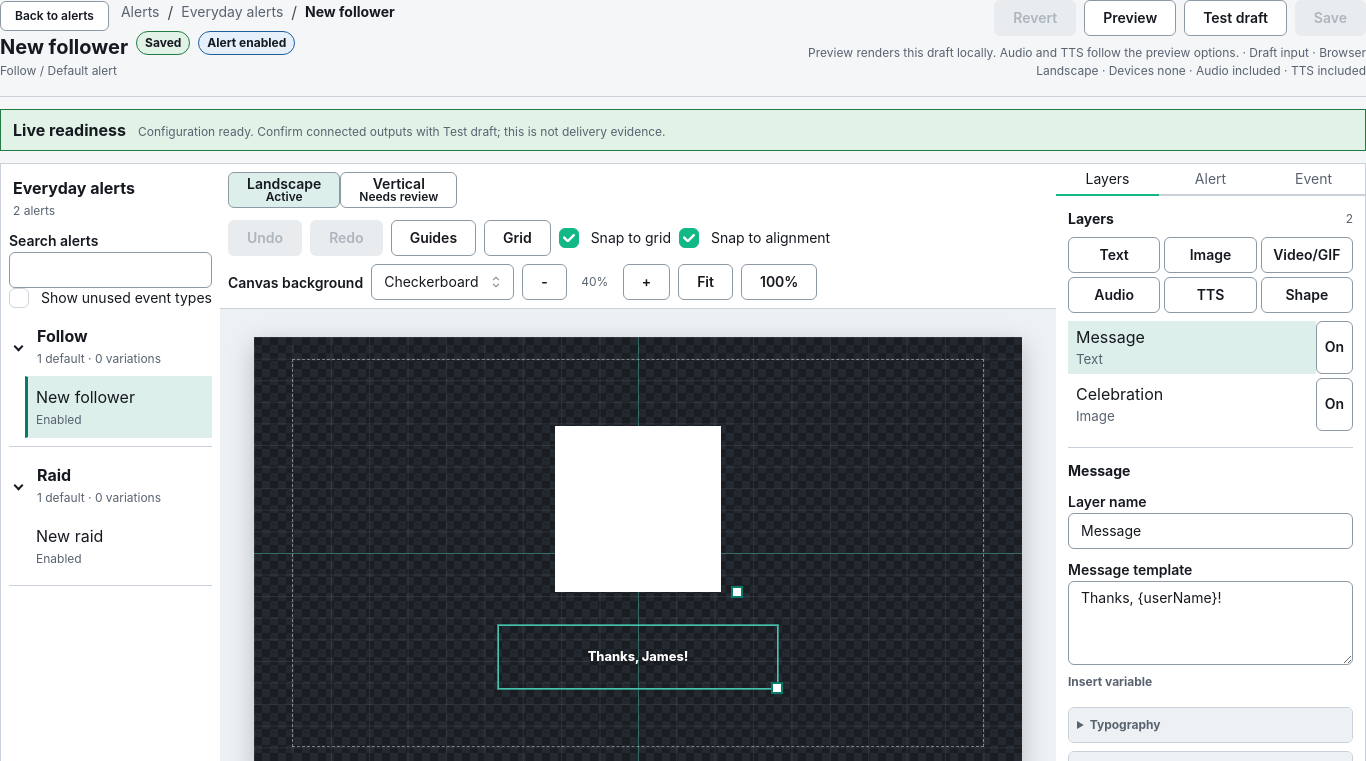
Test: AlertEditorPage › records the displayed generated reference once for a confirmed save failure
Replace the text in the text box labelled "Message template" with "Retained diagnostic draft" at (1210, 623), box 1068,581 -> 1353,665
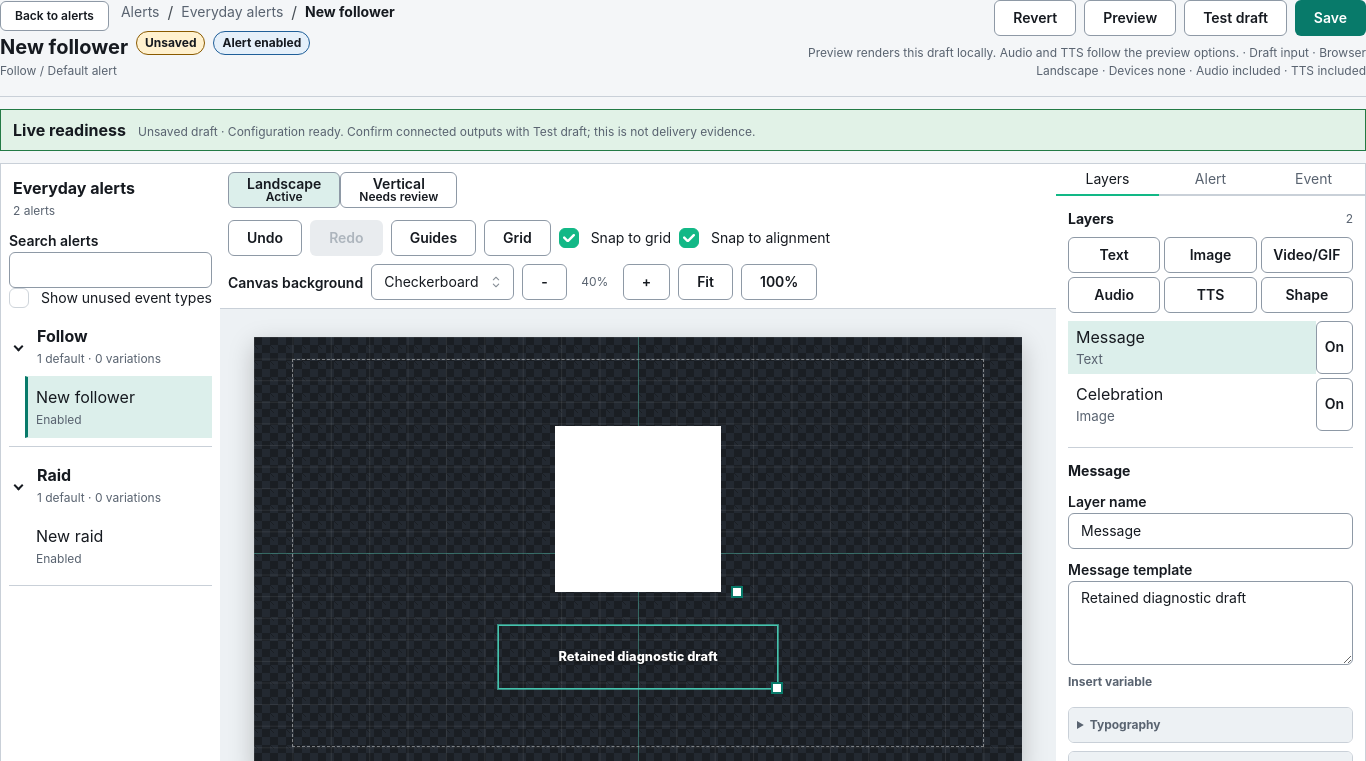
Click the button "Save".
click(1330, 18)  # box 1295,0 -> 1365,36
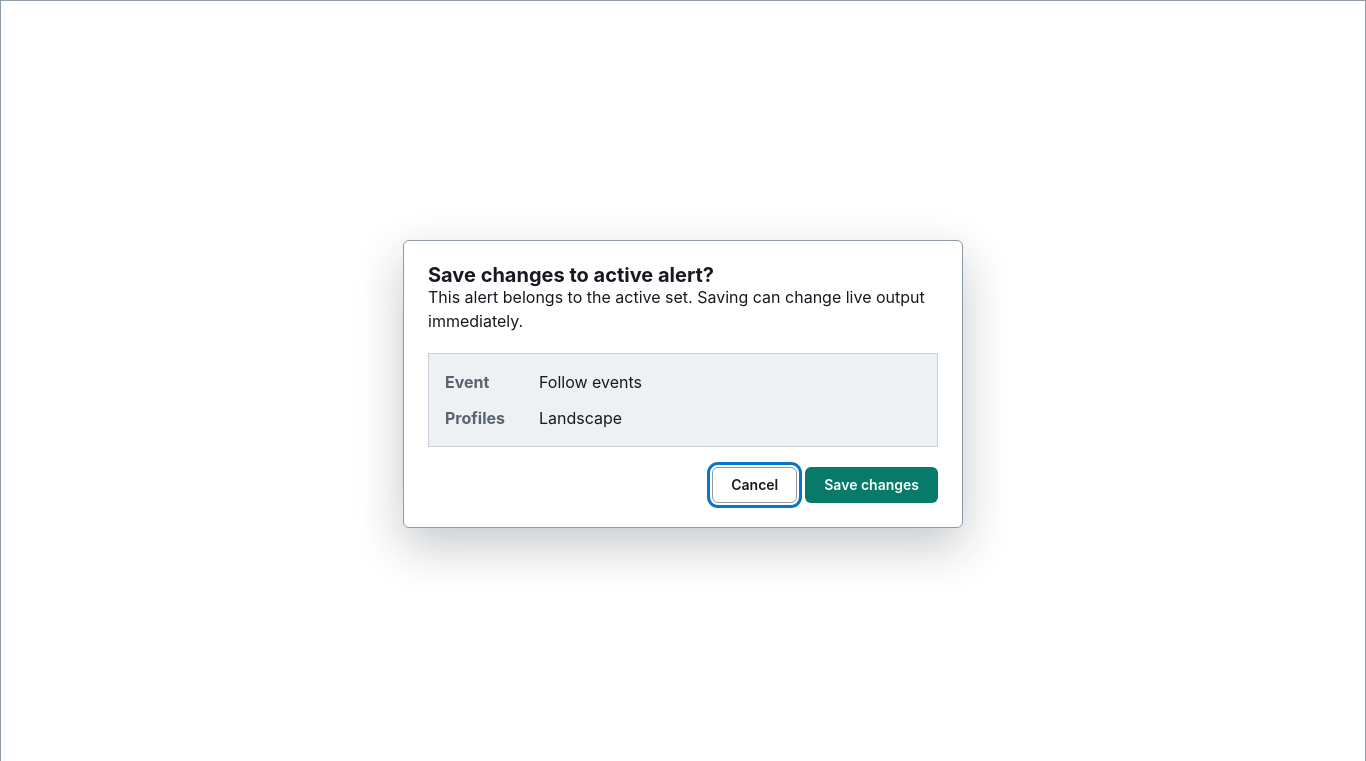
Click the button "Save changes".
click(872, 485)  # box 805,467 -> 938,503
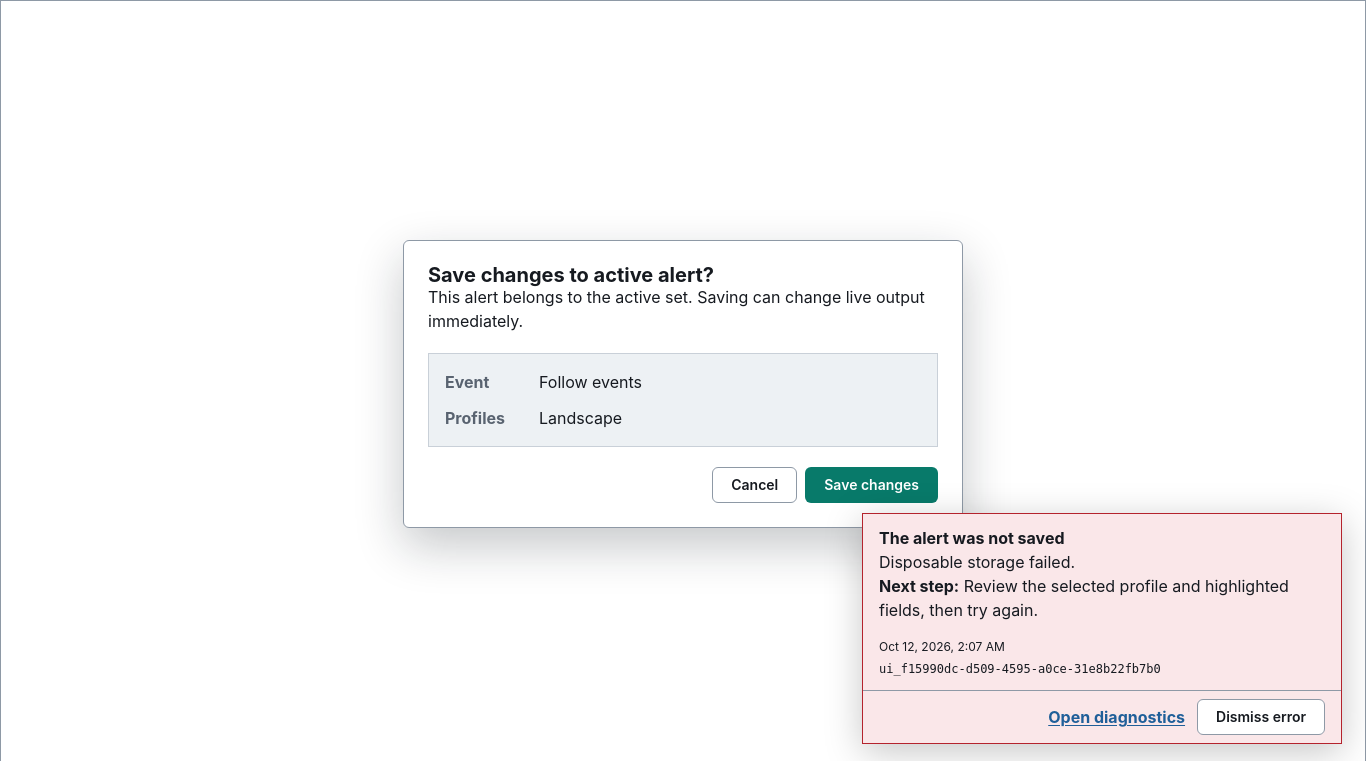
Now the number of messages is 1, box 863,514 -> 1341,690
